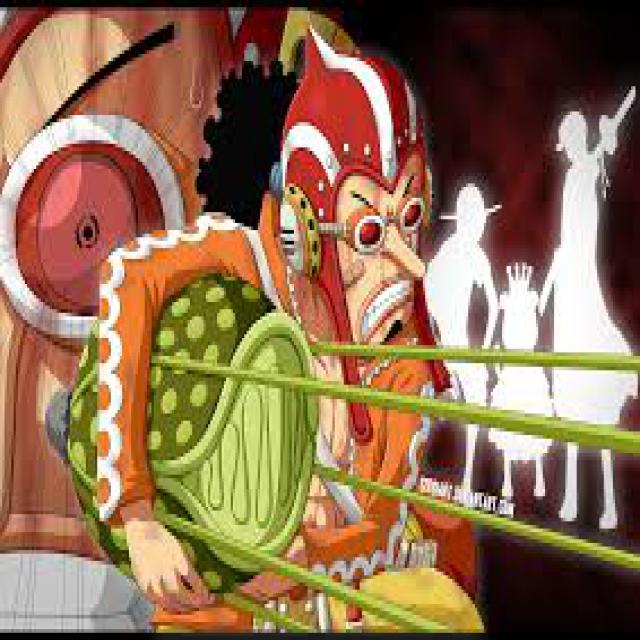Usopp: (97, 32, 482, 633), (317, 399, 425, 485)
